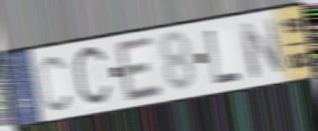8: (158, 29, 200, 96)
C: (71, 42, 114, 112), (37, 53, 71, 114)
E: (114, 33, 166, 105)
L: (204, 27, 244, 87)
N: (237, 16, 288, 81)
